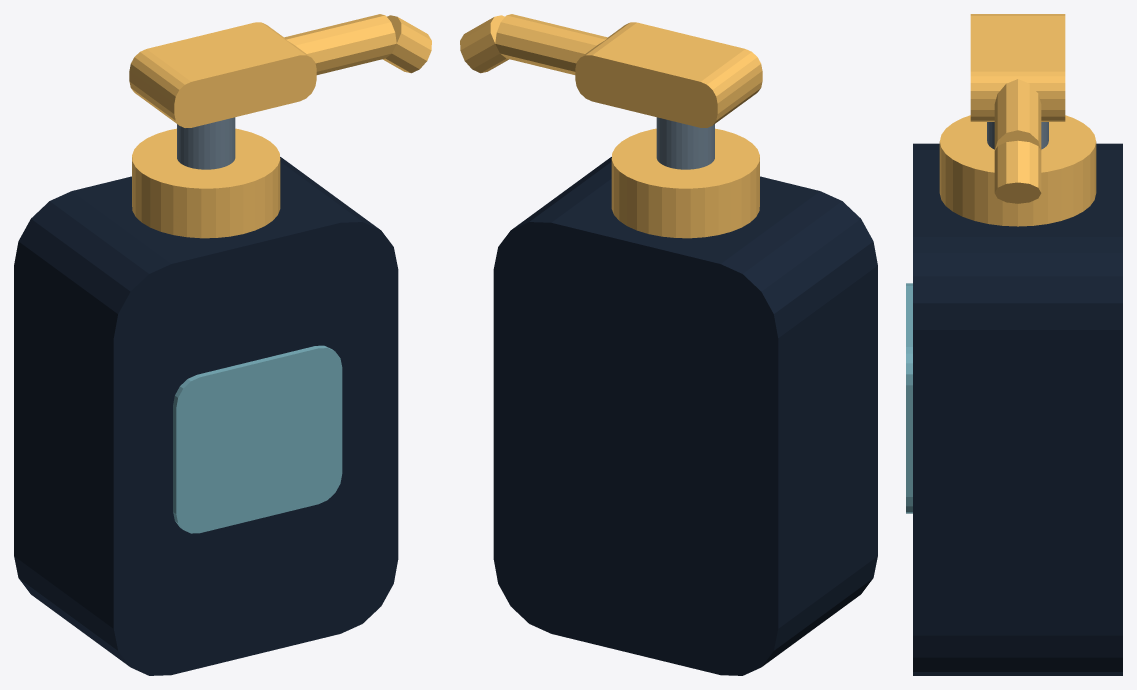
The model's file is pump.glb.
3 renders of one model, left to right at view 1: azimuth 30°, elevation 25°; view 2: azimuth 150°, elevation 25°; view 3: azimuth 270°, elevation 25°, orthographic. The views are drawn at different scales.
Visible parts, largest first — view 1: bottle body, label, pump head, neck, spout0, piston, spout1; view 2: bottle body, pump head, neck, spout0, piston, spout1; view 3: bottle body, neck, pump head, spout1, spout0, label, piston.
Boxes of the visible parts, <box> form: bottle body: <box>14,157,398,675</box>; label: <box>173,345,342,533</box>; pump head: <box>129,22,316,127</box>; neck: <box>132,128,280,238</box>; spout0: <box>284,14,396,74</box>; piston: <box>177,117,235,169</box>; spout1: <box>383,15,431,73</box>; bottle body: <box>493,157,877,675</box>; pump head: <box>575,22,762,127</box>; neck: <box>611,128,759,238</box>; spout0: <box>495,14,607,74</box>; piston: <box>656,117,714,169</box>; spout1: <box>460,15,508,73</box>; bottle body: <box>913,143,1122,675</box>; neck: <box>939,115,1096,226</box>; pump head: <box>970,14,1065,121</box>; spout1: <box>994,140,1041,203</box>; spout0: <box>994,79,1041,150</box>; label: <box>906,283,912,513</box>; piston: <box>987,122,1048,149</box>.
Size of the model in its own units: 1.07 by 1.58 by 0.527.
